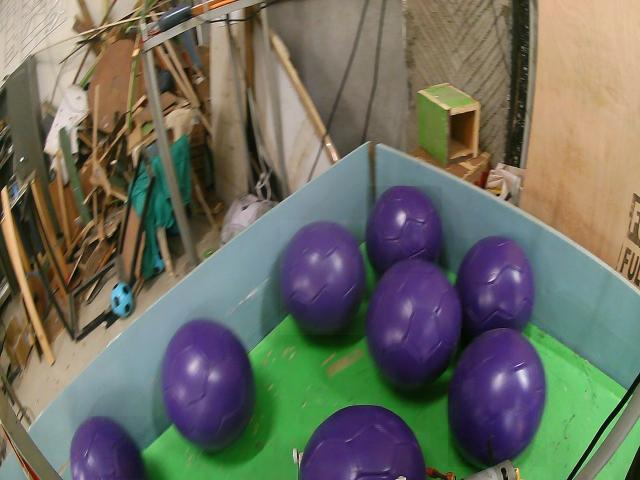jambhalya: (448, 328, 547, 467), (161, 320, 255, 450), (366, 260, 461, 388), (280, 220, 365, 335), (299, 405, 426, 480), (456, 237, 535, 338), (367, 186, 442, 274), (70, 416, 145, 479)
